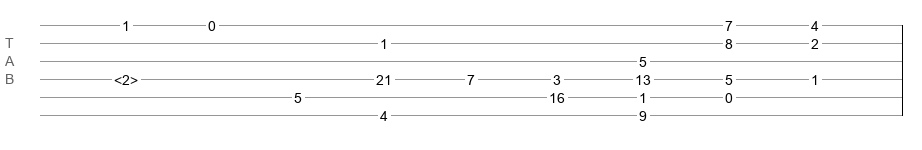0: (208, 18, 216, 28), (725, 90, 733, 100)
1: (122, 18, 130, 28), (380, 36, 388, 46), (639, 90, 647, 100), (811, 72, 819, 82)
13: (635, 72, 651, 82)
16: (549, 90, 565, 100)
2: (811, 36, 819, 46)
21: (376, 72, 392, 82)
3: (553, 72, 561, 82)
4: (380, 108, 388, 118), (811, 18, 819, 28)
5: (294, 90, 302, 100), (639, 54, 647, 64), (725, 72, 733, 82)
7: (467, 72, 475, 82), (725, 18, 733, 28)
8: (725, 36, 733, 46)
9: (639, 108, 647, 118)
harmonic: (114, 72, 138, 82)
